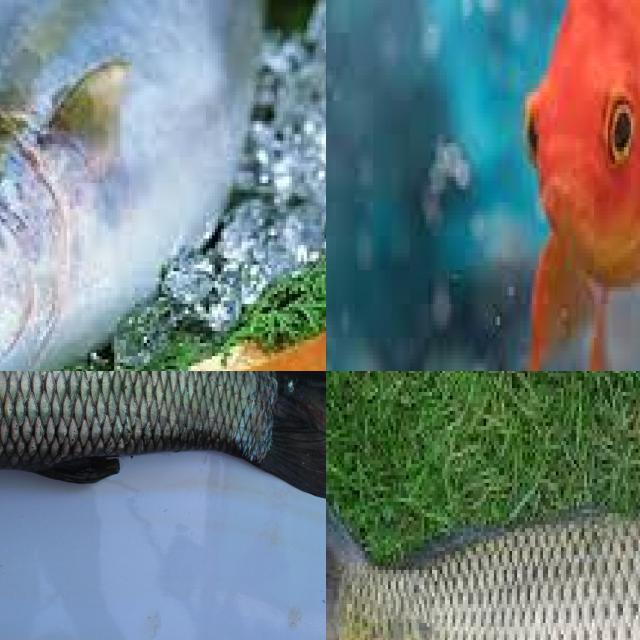fish: (0, 0, 326, 371), (326, 0, 640, 371), (326, 371, 640, 640), (0, 371, 326, 543)
